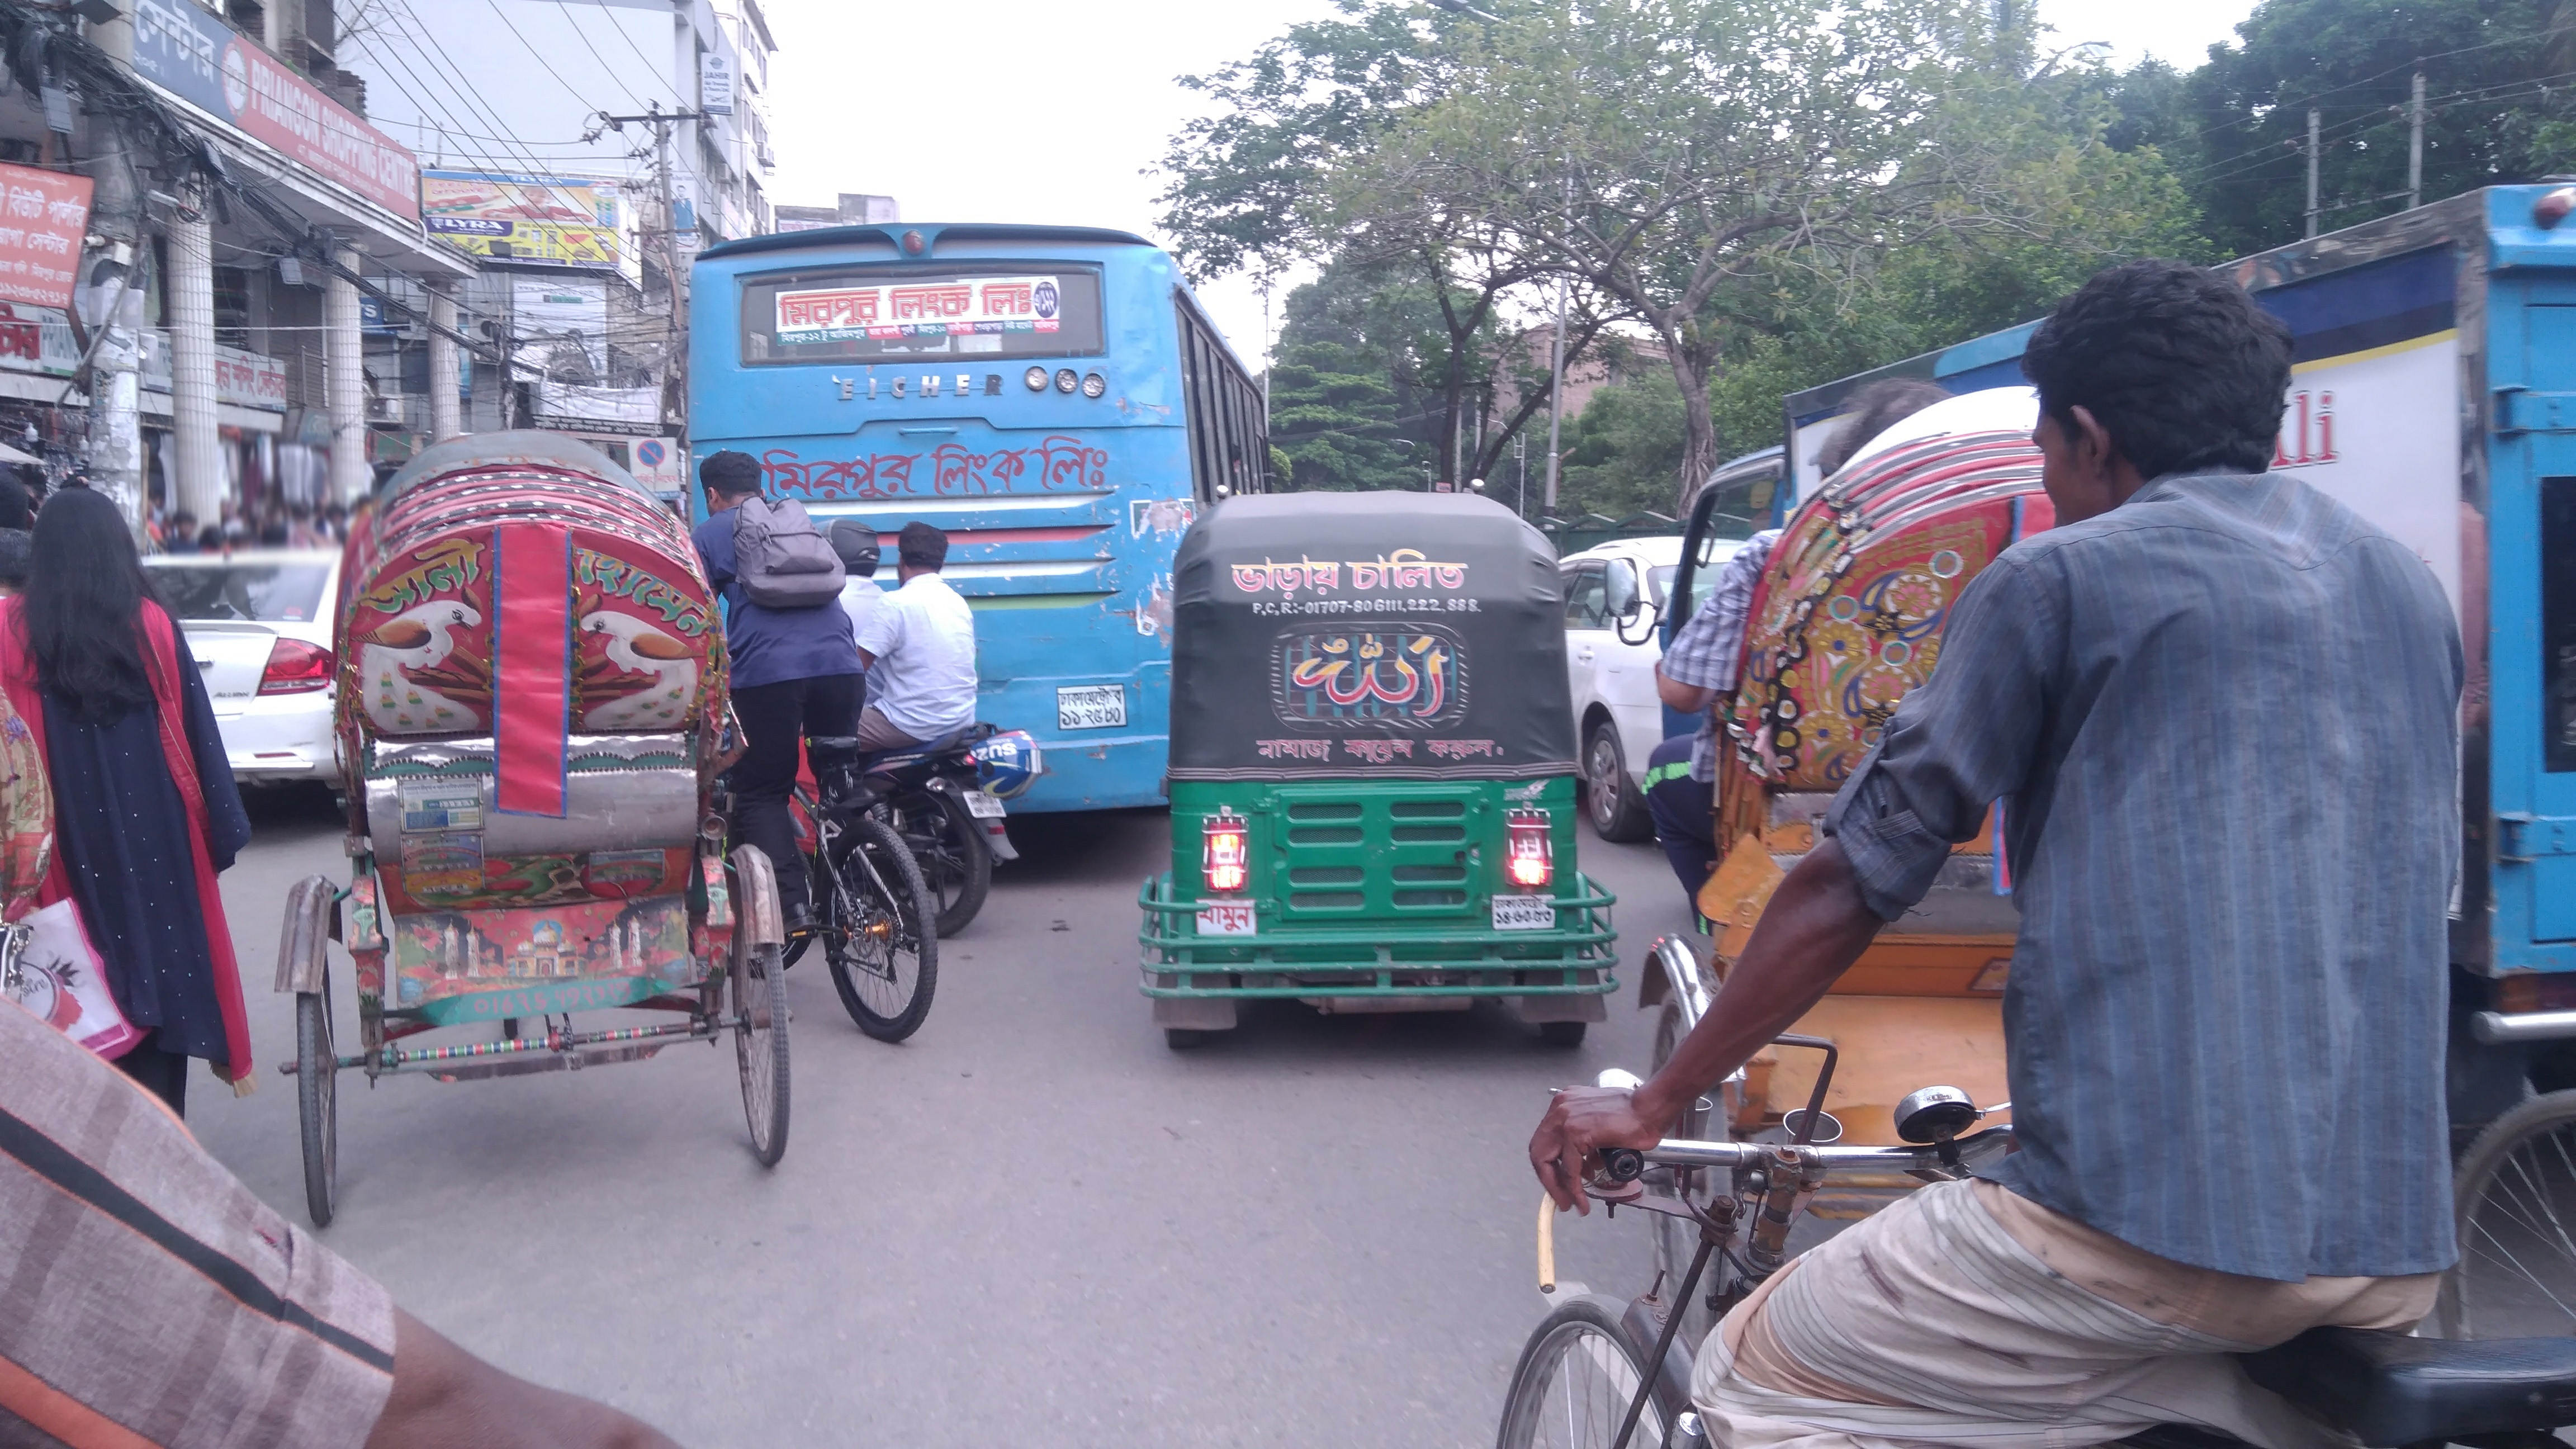bus: (674, 218, 1281, 840)
car: (124, 518, 384, 803)
cng: (1145, 483, 1645, 1081)
rickshaw: (1642, 419, 2166, 1341), (280, 414, 810, 1212)
